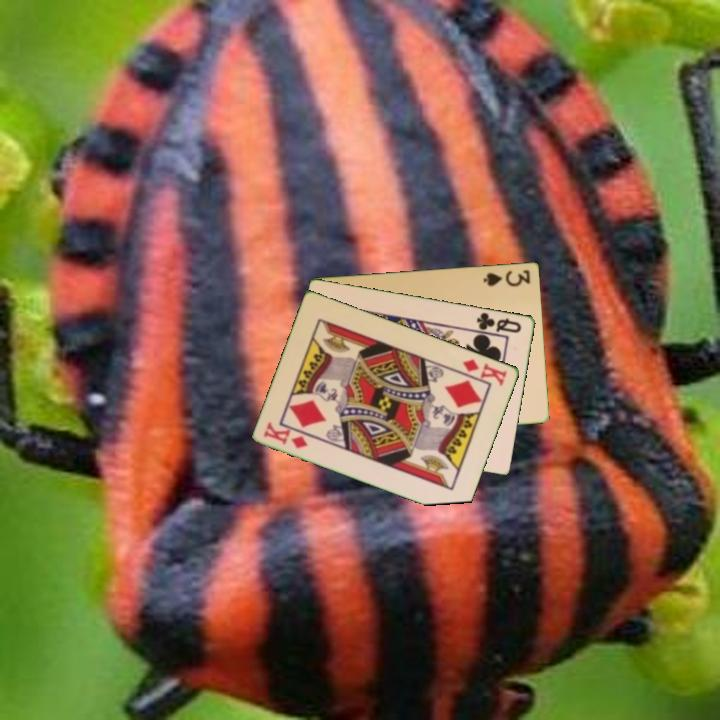3s: (480, 266, 534, 289)
Kd: (459, 355, 510, 389), (261, 419, 311, 451)
Qc: (473, 308, 524, 335)
